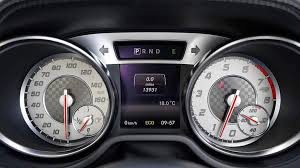Digital_Meter: (115, 61, 184, 133)
